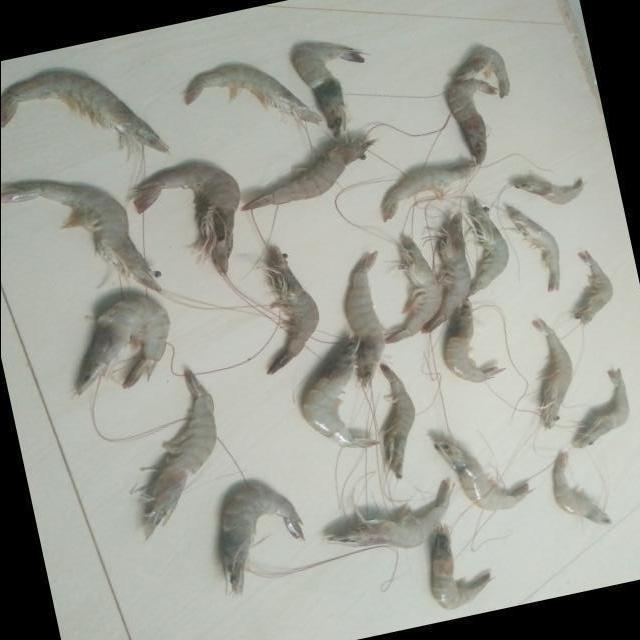shrimp: (0, 181, 161, 291), (0, 70, 168, 151), (142, 370, 216, 539), (133, 164, 240, 273), (242, 133, 376, 210), (221, 485, 304, 594), (76, 297, 169, 394), (328, 480, 452, 549), (303, 336, 379, 448), (184, 64, 322, 122), (436, 440, 533, 511), (267, 245, 319, 374), (294, 41, 365, 135), (386, 235, 443, 343), (422, 211, 472, 333), (383, 161, 478, 220), (346, 251, 385, 386), (432, 526, 492, 610), (446, 299, 506, 382), (533, 318, 574, 428), (508, 206, 561, 291), (574, 369, 631, 448), (448, 77, 498, 163), (554, 452, 612, 526), (380, 364, 416, 479), (468, 198, 510, 296), (575, 250, 614, 324), (457, 45, 510, 96), (514, 173, 586, 203)
